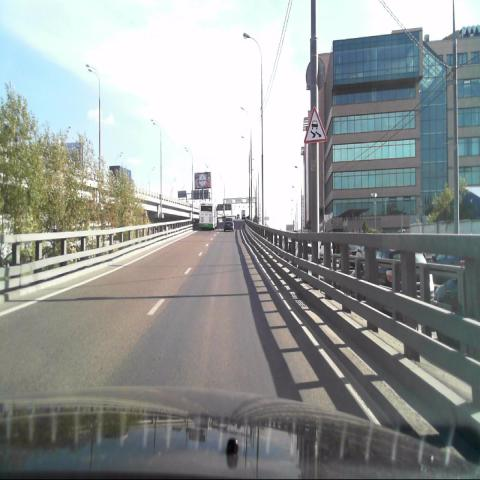1_15: (304, 107, 328, 142)
